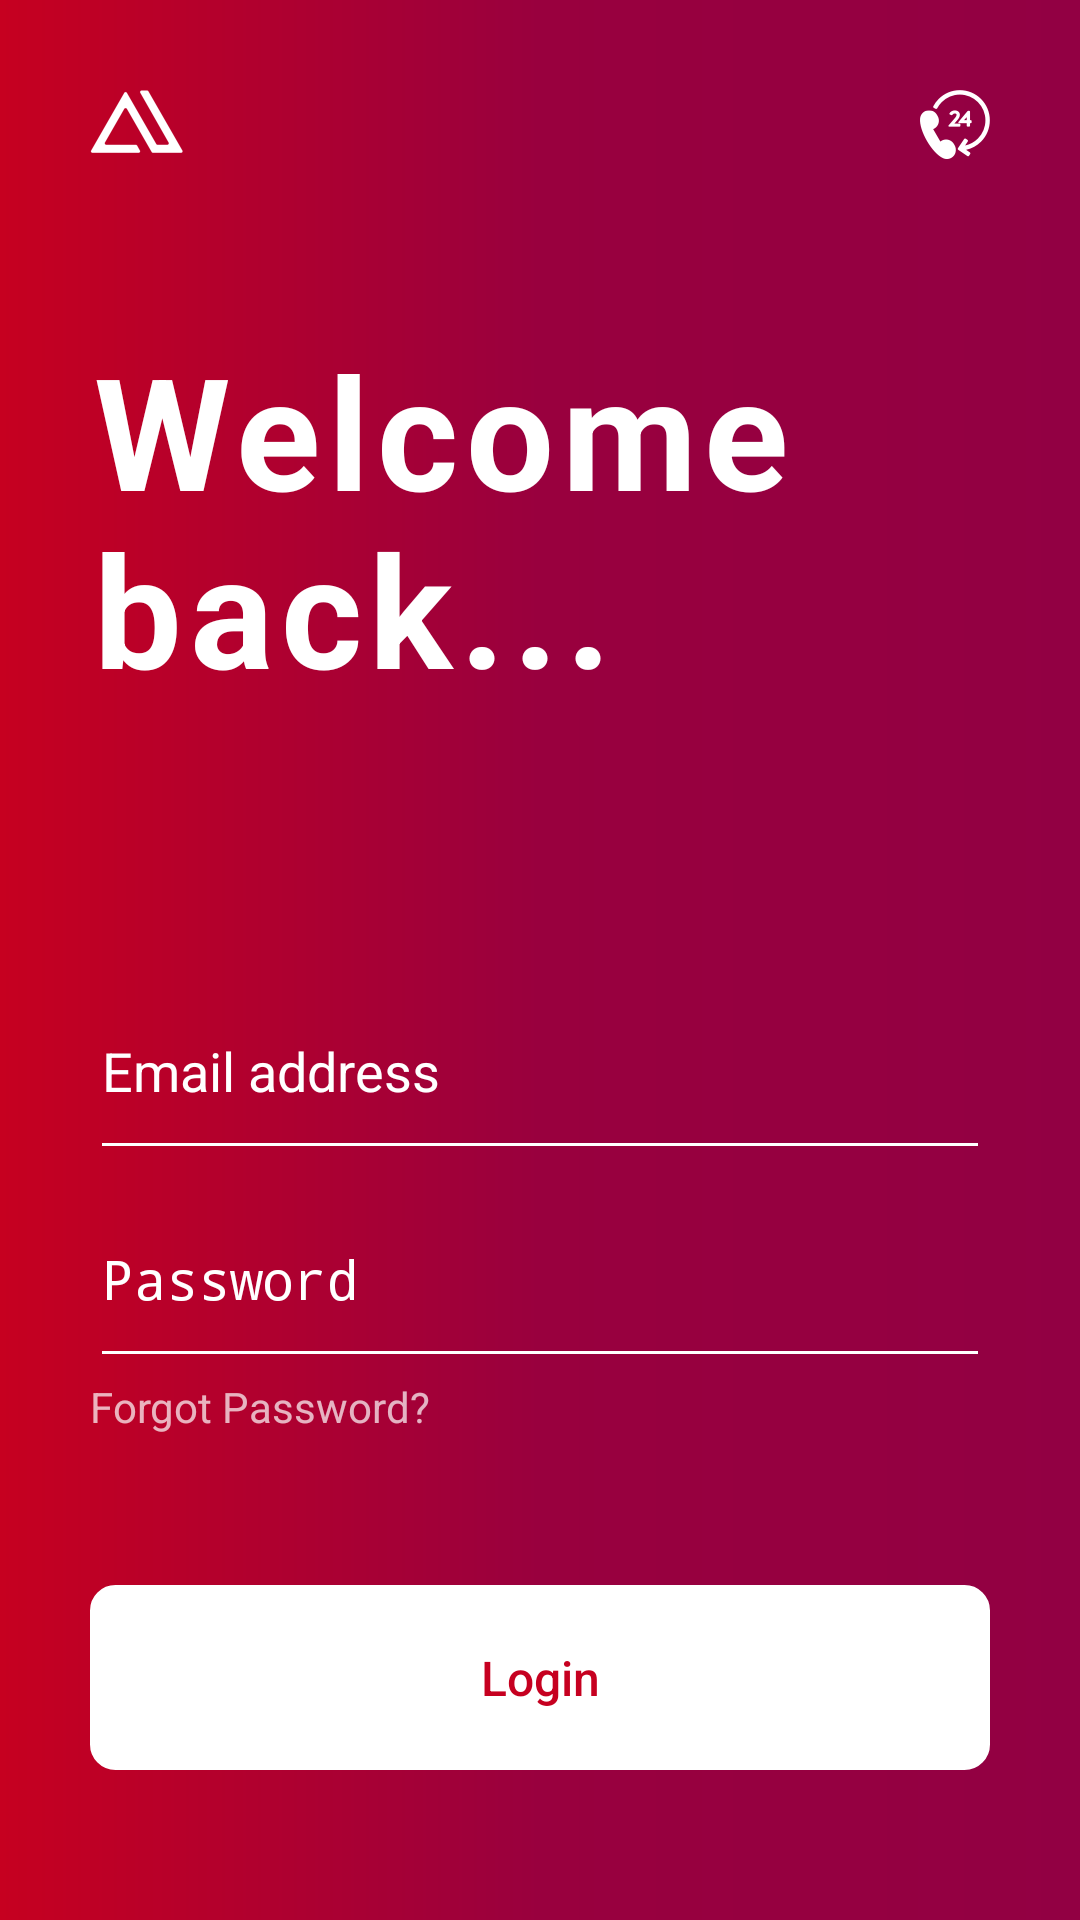

Locate icon controls on the screen. Image size 1080*1920, boxes as (x1, y1, x2, y2).
twenty four hour support: (920, 90, 990, 159)
